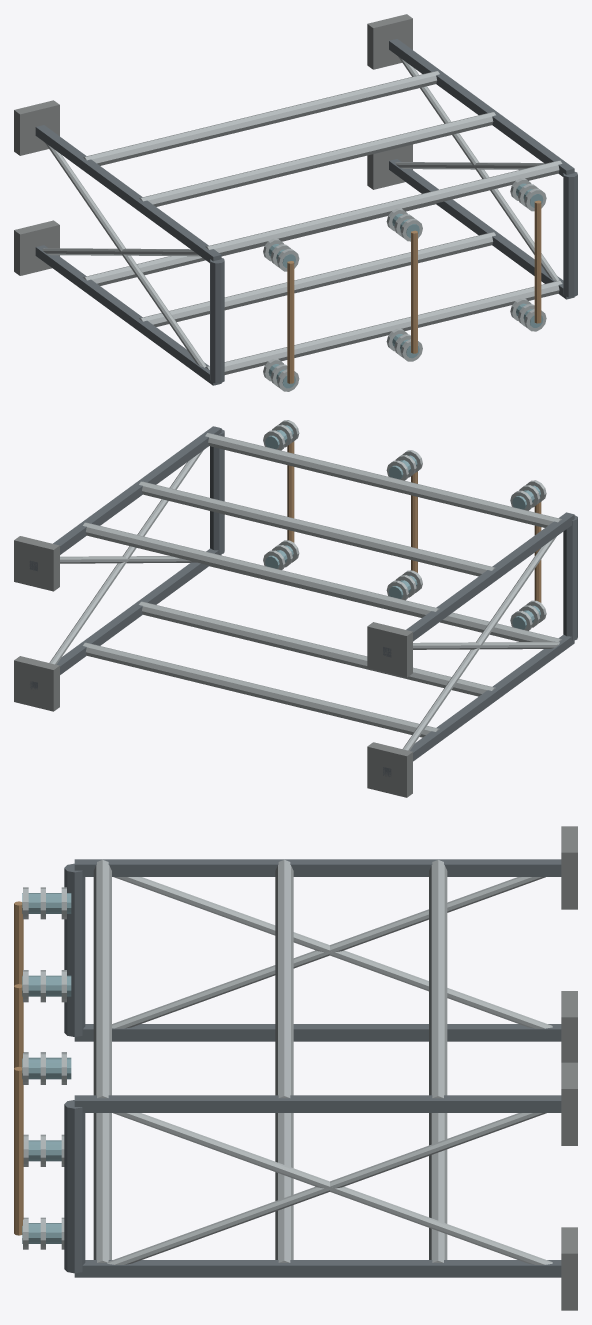
File: powerquest_transmission_gantry.glb
The picture shows the model from 3 angles, top to bottom: view 1: azimuth 30°, elevation 25°; view 2: azimuth 150°, elevation 25°; view 3: azimuth 270°, elevation 25°; orthographic projection. The views are drawn at different scales.
Parts seen in each view (by area): view 1: powerquest_transmission_gantry_009, powerquest_transmission_gantry_011, powerquest_transmission_gantry_013, powerquest_transmission_gantry_010, powerquest_transmission_gantry_012, powerquest_transmission_gantry_002, powerquest_transmission_gantry_000, powerquest_transmission_gantry_006, powerquest_transmission_gantry_004, powerquest_transmission_gantry_003, powerquest_transmission_gantry_014, powerquest_transmission_gantry_015 (+11 smaller); view 2: powerquest_transmission_gantry_009, powerquest_transmission_gantry_013, powerquest_transmission_gantry_011, powerquest_transmission_gantry_008, powerquest_transmission_gantry_010, powerquest_transmission_gantry_002, powerquest_transmission_gantry_000, powerquest_transmission_gantry_006, powerquest_transmission_gantry_004, powerquest_transmission_gantry_044, powerquest_transmission_gantry_043, powerquest_transmission_gantry_045 (+10 smaller); view 3: powerquest_transmission_gantry_006, powerquest_transmission_gantry_004, powerquest_transmission_gantry_002, powerquest_transmission_gantry_000, powerquest_transmission_gantry_005, powerquest_transmission_gantry_007, powerquest_transmission_gantry_011, powerquest_transmission_gantry_013, powerquest_transmission_gantry_009, powerquest_transmission_gantry_001, powerquest_transmission_gantry_003, powerquest_transmission_gantry_015 (+16 smaller).
Boxes of the visible parts, <box> form: powerquest_transmission_gantry_009: <box>83,71,439,165</box>; powerquest_transmission_gantry_011: <box>139,112,495,206</box>; powerquest_transmission_gantry_013: <box>205,160,562,255</box>; powerquest_transmission_gantry_010: <box>139,232,495,326</box>; powerquest_transmission_gantry_012: <box>205,280,562,374</box>; powerquest_transmission_gantry_002: <box>35,125,221,262</box>; powerquest_transmission_gantry_000: <box>35,245,221,385</box>; powerquest_transmission_gantry_006: <box>389,39,574,176</box>; powerquest_transmission_gantry_004: <box>389,159,574,299</box>; powerquest_transmission_gantry_003: <box>45,143,206,367</box>; powerquest_transmission_gantry_014: <box>210,258,224,383</box>; powerquest_transmission_gantry_015: <box>563,172,577,297</box>; powerquest_transmission_gantry_009: <box>83,522,439,617</box>; powerquest_transmission_gantry_013: <box>205,433,561,527</box>; powerquest_transmission_gantry_011: <box>139,481,495,576</box>; powerquest_transmission_gantry_008: <box>83,642,439,737</box>; powerquest_transmission_gantry_010: <box>139,601,495,696</box>; powerquest_transmission_gantry_002: <box>383,512,574,657</box>; powerquest_transmission_gantry_000: <box>383,634,574,776</box>; powerquest_transmission_gantry_006: <box>29,426,221,571</box>; powerquest_transmission_gantry_004: <box>30,548,221,689</box>; powerquest_transmission_gantry_044: <box>367,622,412,677</box>; powerquest_transmission_gantry_043: <box>367,742,412,797</box>; powerquest_transmission_gantry_045: <box>14,656,59,711</box>; powerquest_transmission_gantry_006: <box>74,1095,561,1112</box>; powerquest_transmission_gantry_004: <box>74,1260,561,1277</box>; powerquest_transmission_gantry_002: <box>74,859,561,876</box>; powerquest_transmission_gantry_000: <box>74,1024,561,1041</box>; powerquest_transmission_gantry_005: <box>113,1113,552,1264</box>; powerquest_transmission_gantry_007: <box>107,1113,546,1264</box>; powerquest_transmission_gantry_011: <box>275,860,293,1098</box>; powerquest_transmission_gantry_013: <box>93,860,111,1098</box>; powerquest_transmission_gantry_009: <box>429,860,447,1098</box>; powerquest_transmission_gantry_001: <box>114,877,552,1028</box>; powerquest_transmission_gantry_003: <box>112,877,545,1028</box>; powerquest_transmission_gantry_015: <box>64,1100,85,1273</box>.
Bounding box in the file's own units: 8.9 × 3.5 × 8.07.
